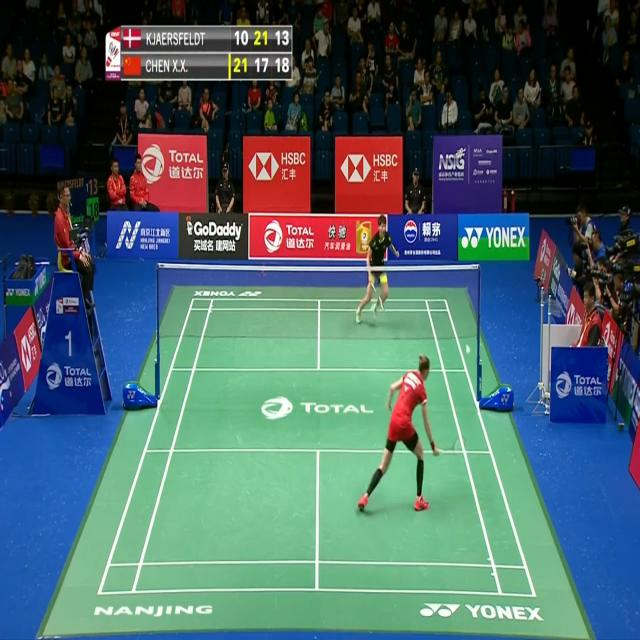Player1: (353, 348, 469, 518)
Player2: (354, 212, 394, 328)
